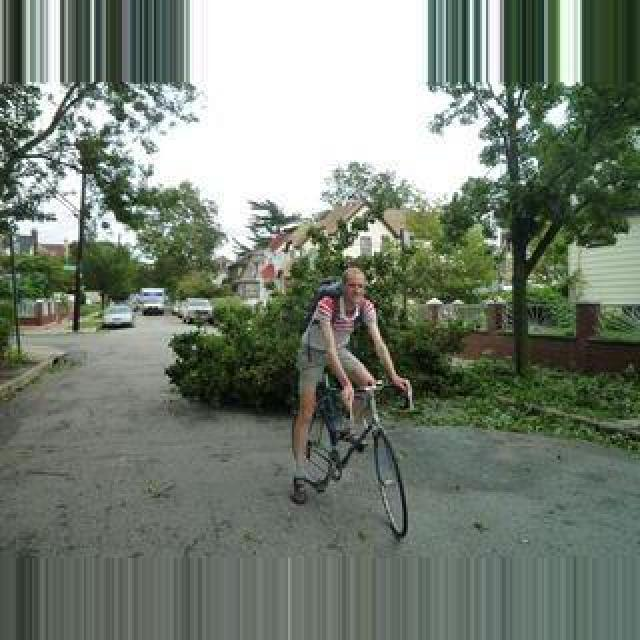Bus-Bike: (182, 298, 214, 324), (102, 306, 134, 330)
MC-Bike: (286, 268, 414, 490)
Person: (298, 376, 412, 538)
Person-Bike: (136, 288, 166, 316)
